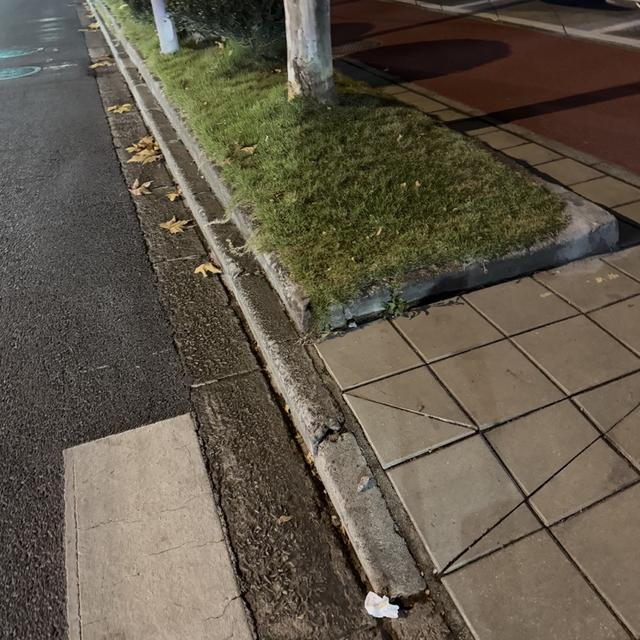curb: (112, 43, 429, 592), (403, 183, 619, 304), (331, 290, 387, 326)
